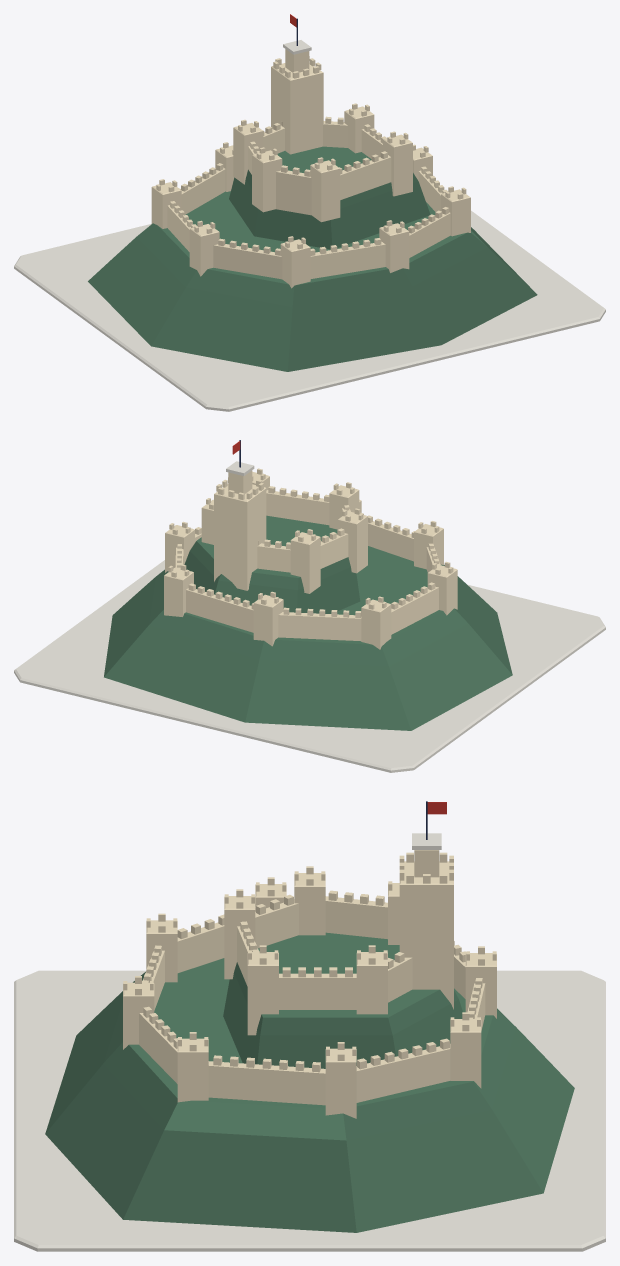
File: malaga.glb
3 renders of one model, top to bottom at view 1: azimuth 30°, elevation 25°; view 2: azimuth 150°, elevation 25°; view 3: azimuth 270°, elevation 25°, orthographic. The views are drawn at different scales.
Parts seen in each view (by area): view 1: model; view 2: model; view 3: model.
Part boxes in pixels (x1,y1,x2,y2): model: (14, 14, 605, 411); model: (14, 440, 605, 772); model: (14, 801, 605, 1251).
Size of the model in its own units: 84 by 47 by 76.
